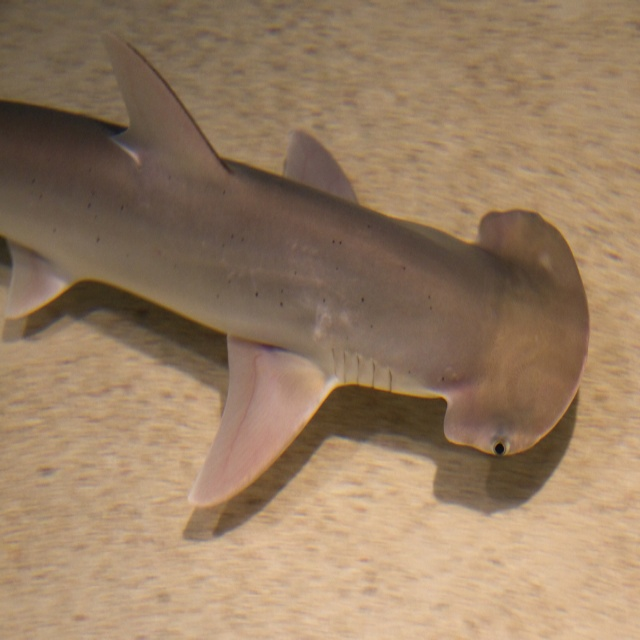Fish: (0, 35, 599, 548)
